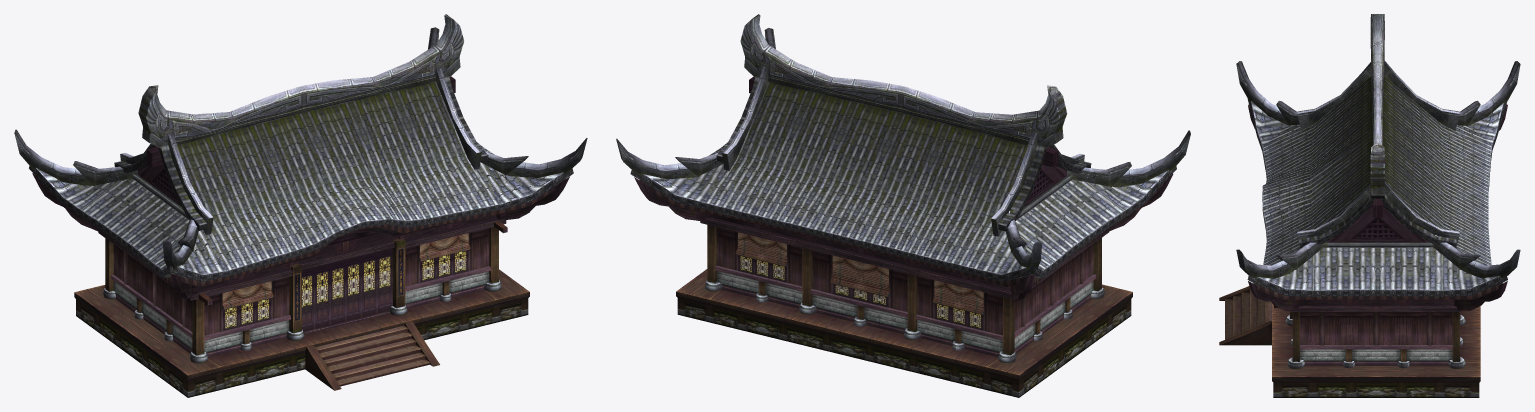
Rendered from xcz_jz_03.FBX.
3 renders of one model, left to right at view 1: azimuth 30°, elevation 25°; view 2: azimuth 150°, elevation 25°; view 3: azimuth 270°, elevation 25°, orthographic. The views are drawn at different scales.
Parts seen in each view (by area): view 1: XCZ_jz_03; view 2: XCZ_jz_03; view 3: XCZ_jz_03.
Boxes of the visible parts, x1,y1,x2,y2 form: XCZ_jz_03: (14,14,587,397); XCZ_jz_03: (616,14,1190,397); XCZ_jz_03: (1219,14,1520,397).
Bounding box in the file's own units: 2265 × 1348 × 1511.
